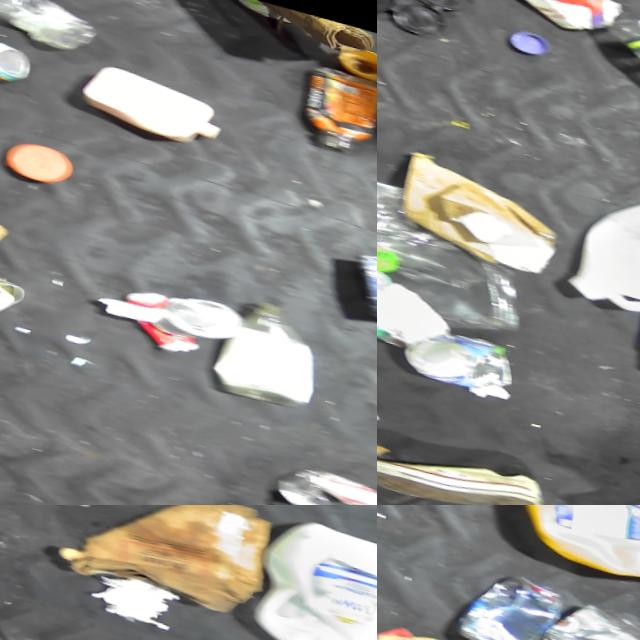can: (402, 322, 530, 397), (466, 559, 576, 640), (348, 239, 377, 330)
milk_jug: (252, 505, 377, 640), (573, 156, 640, 355)
non_white_jug: (503, 505, 640, 603)
plastic_bottle: (518, 582, 640, 640), (595, 10, 640, 140), (377, 190, 429, 278)
